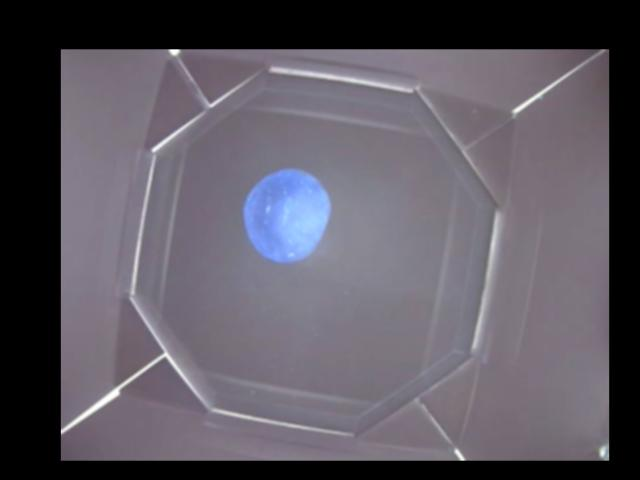Potato: (239, 165, 329, 266)
